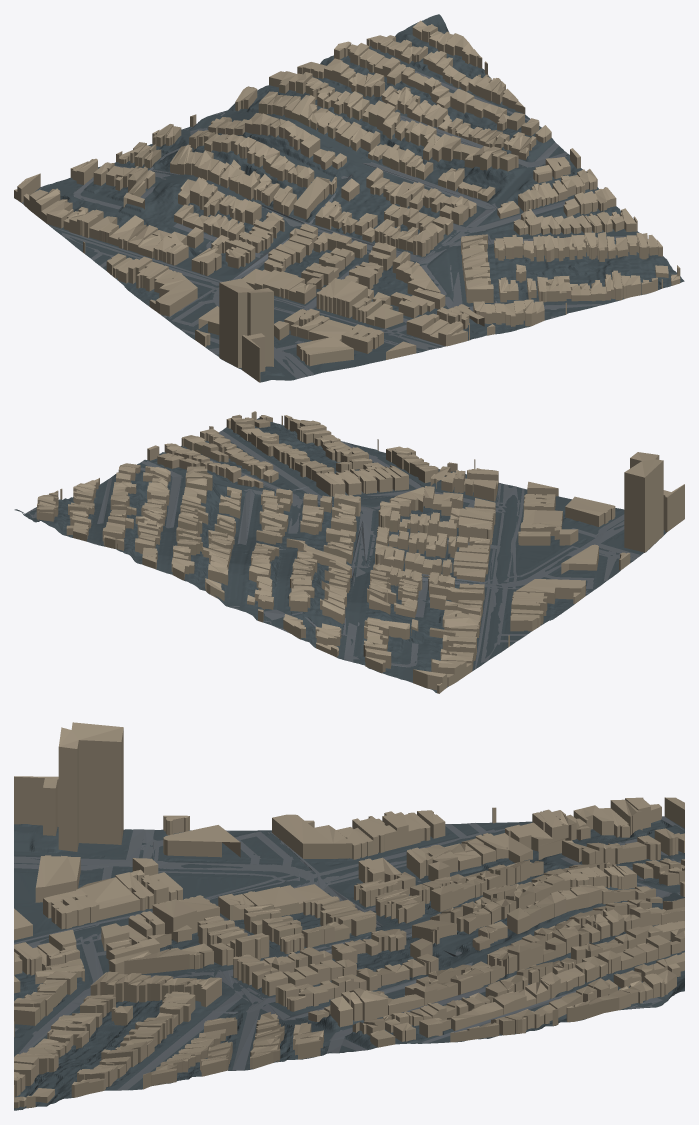
The model's file is epsg26910-1435-10879.lod0.glb.
3 renders of one model, top to bottom at view 1: azimuth 30°, elevation 25°; view 2: azimuth 150°, elevation 25°; view 3: azimuth 270°, elevation 25°, orthographic. The views are drawn at different scales.
Visible parts, largest first — view 1: epsg26910-1435-10879-lod0; view 2: epsg26910-1435-10879-lod0; view 3: epsg26910-1435-10879-lod0.
Part boxes in pixels (x1,y1,x2,y2): epsg26910-1435-10879-lod0: (14, 14, 684, 382); epsg26910-1435-10879-lod0: (14, 411, 684, 693); epsg26910-1435-10879-lod0: (14, 722, 684, 1110).
Bounding box in the file's own units: 384 × 83.4 × 384.
